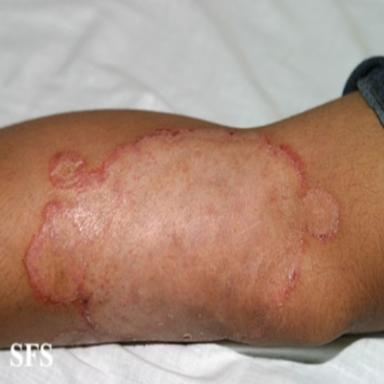Tinea-Corporis: (25, 130, 339, 339)
